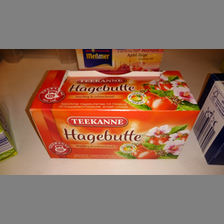tea: (28, 69, 200, 159)
